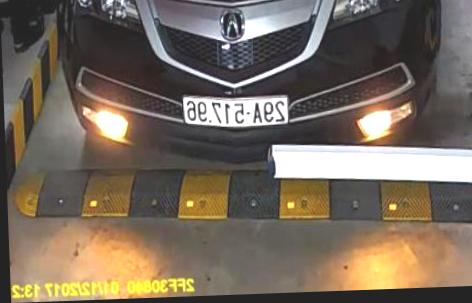License_Plate: (182, 92, 289, 130)
